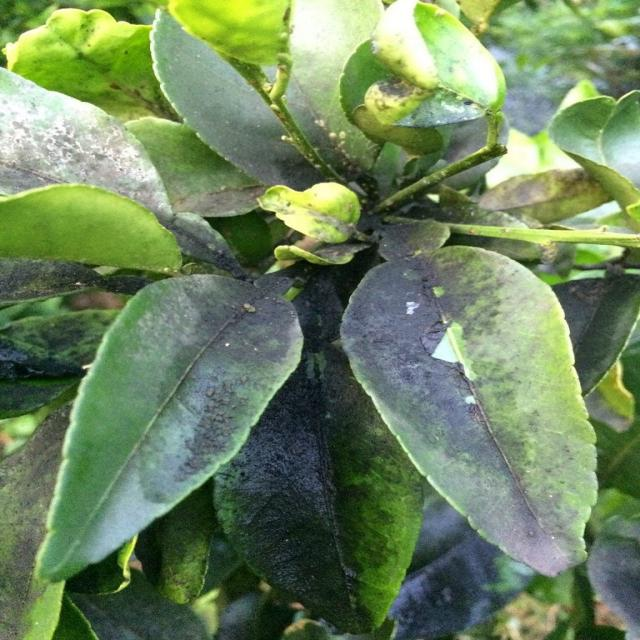Sooty Mold: (88, 78, 602, 564)
